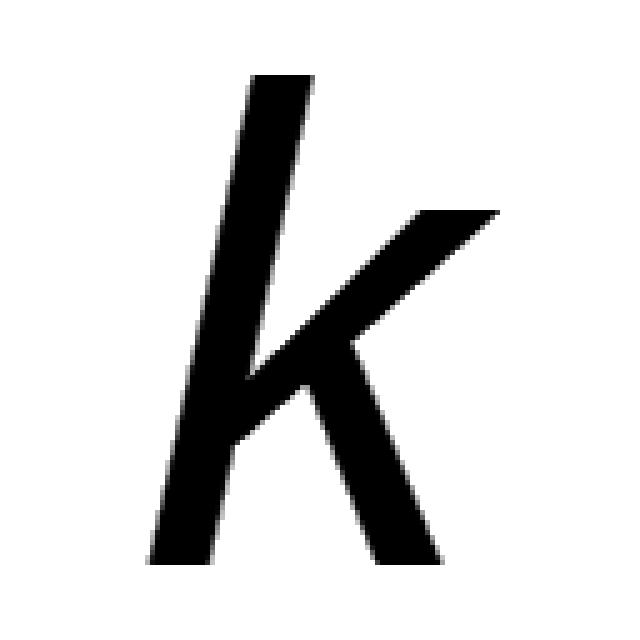K: (140, 65, 505, 570)
